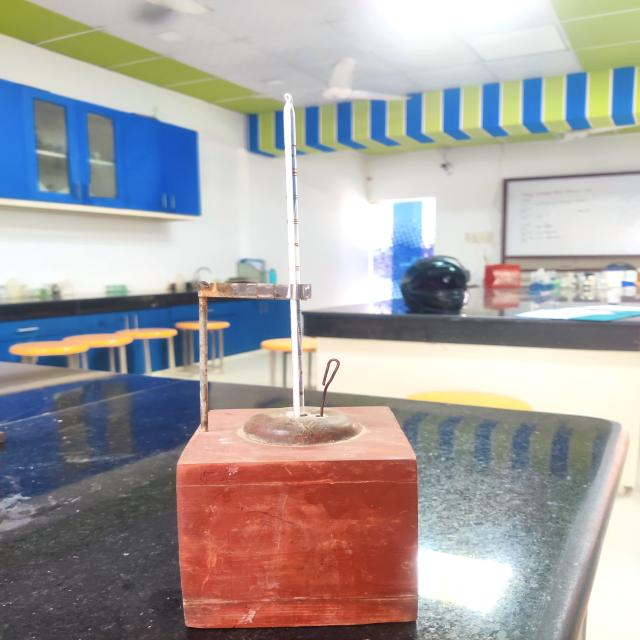Calorimeter: (141, 62, 463, 640)
